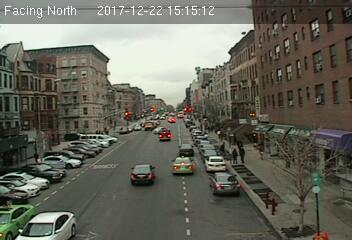car: (208, 170, 241, 194), (130, 164, 156, 184), (171, 156, 194, 174), (205, 155, 228, 172), (178, 144, 194, 156)
pedestrian: (231, 148, 240, 166)
